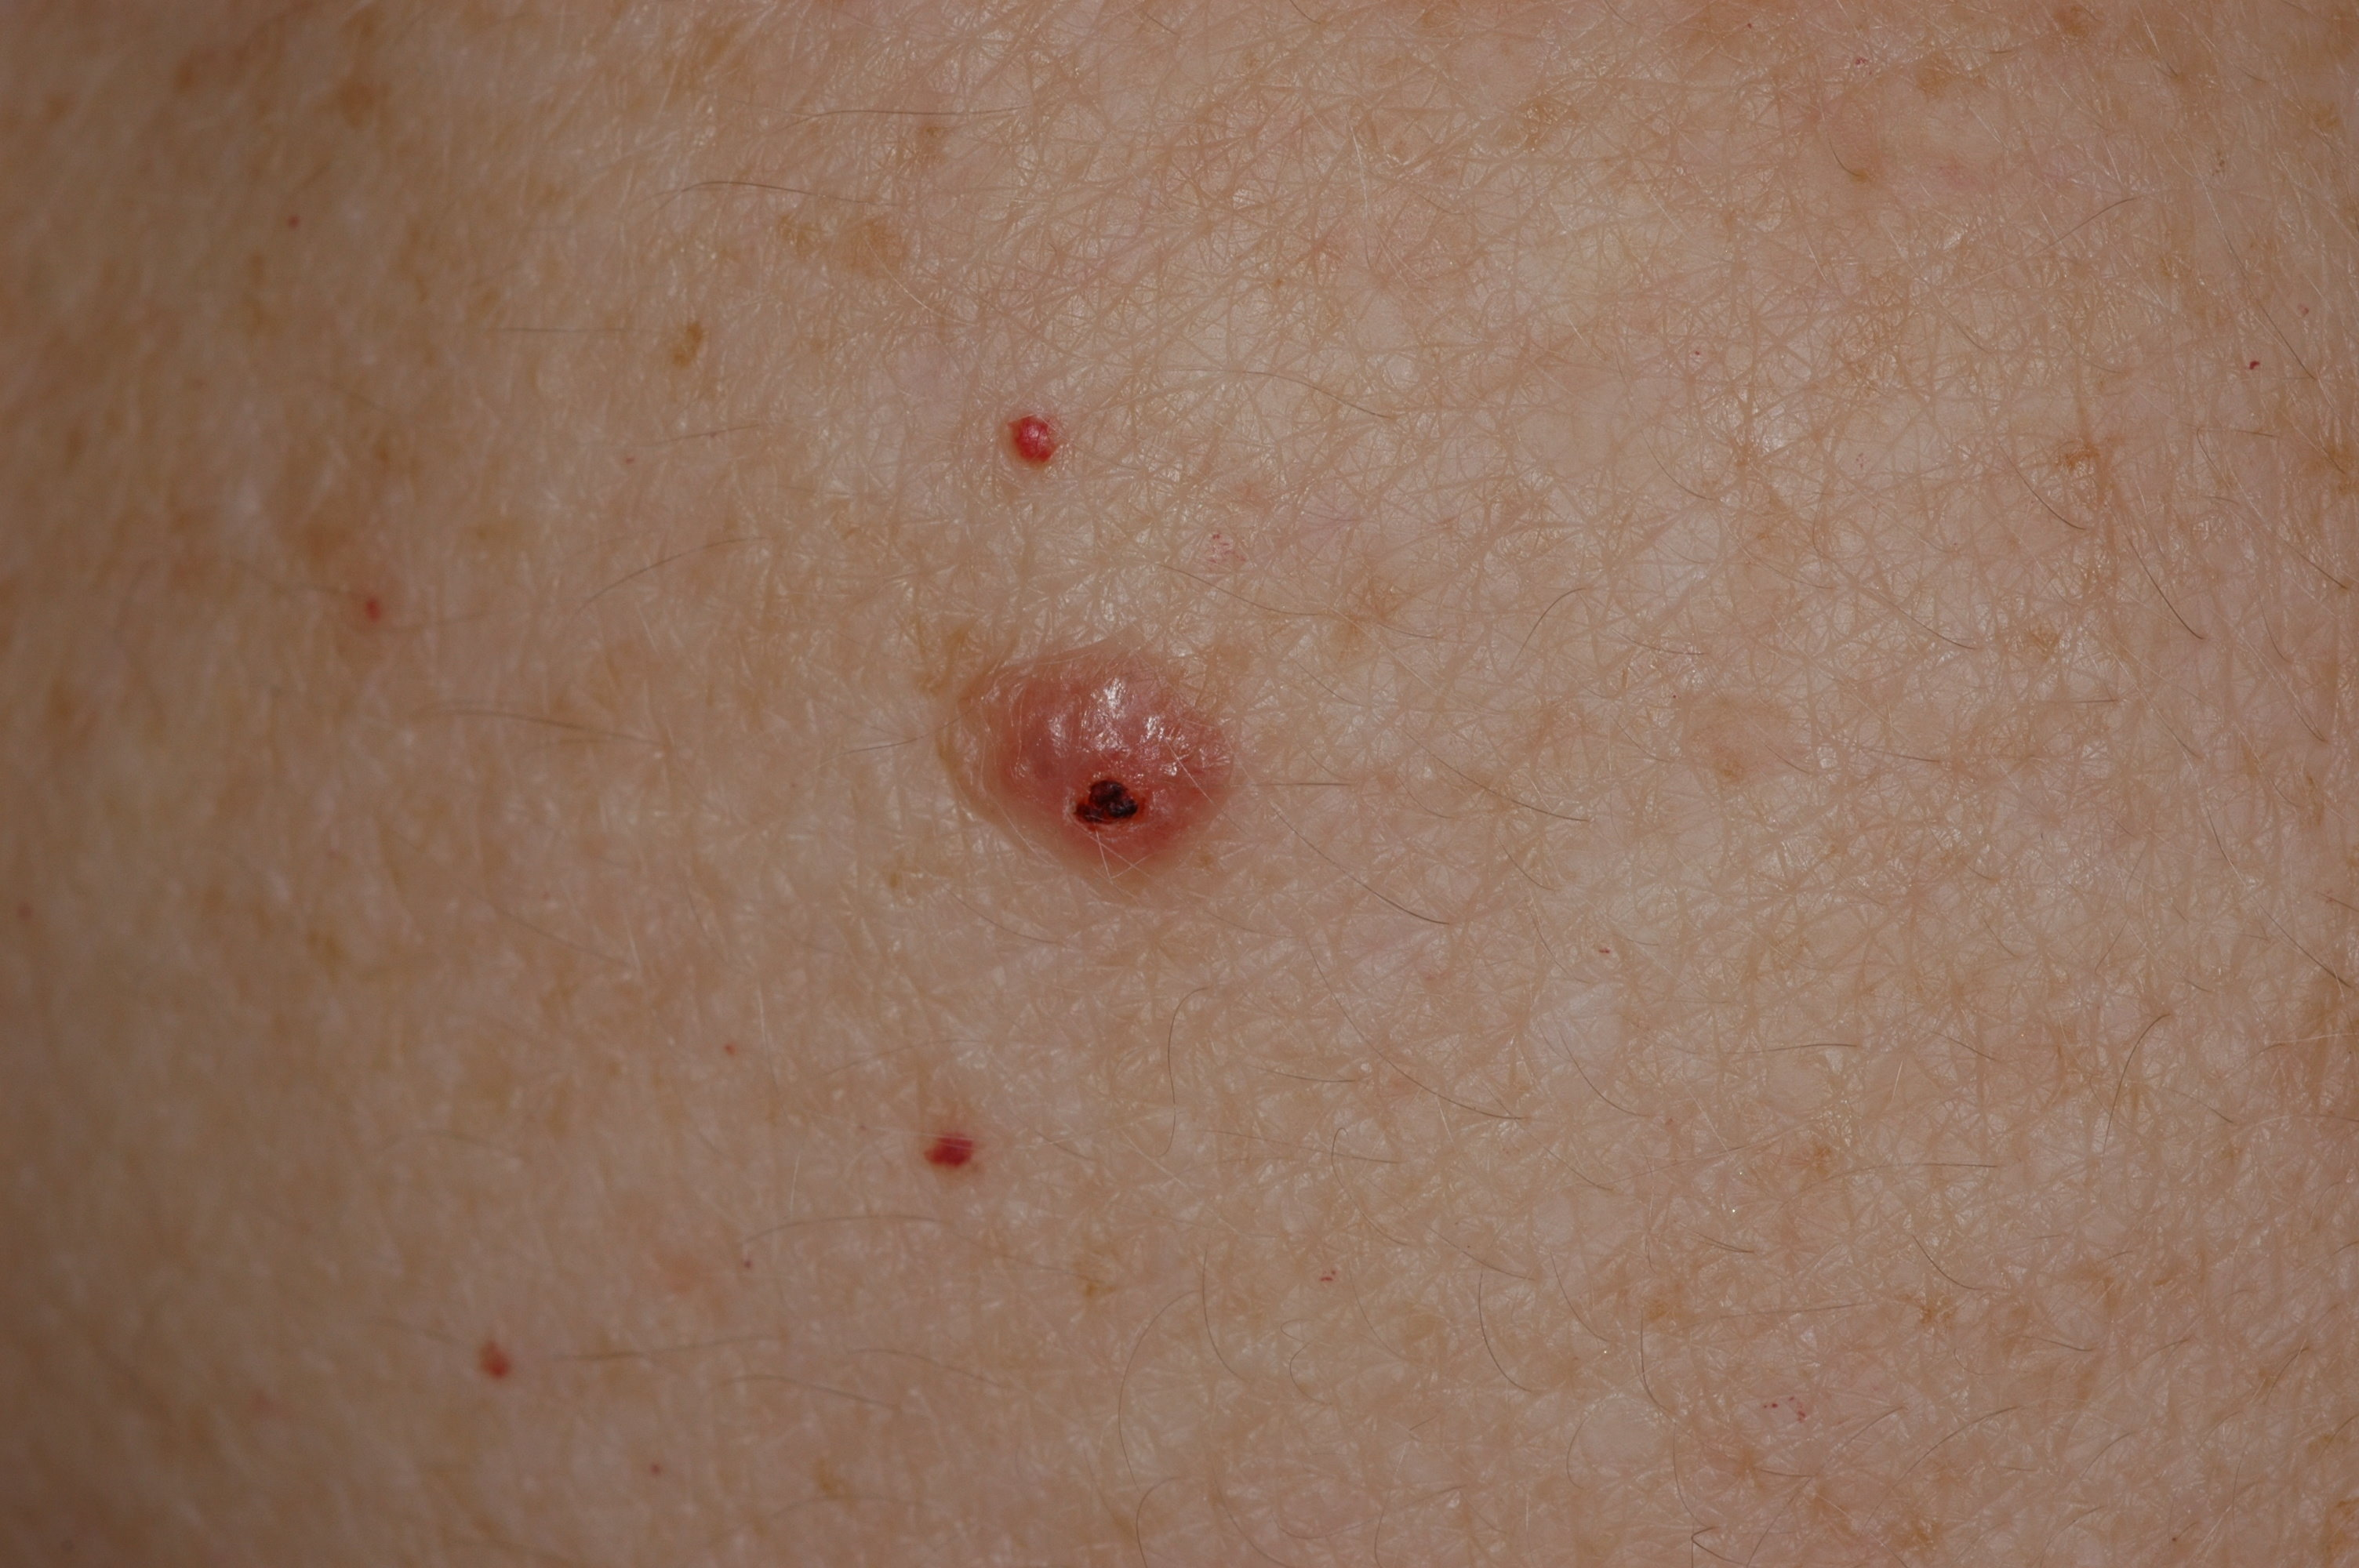Detected Lesion: (917, 621, 1270, 917)
